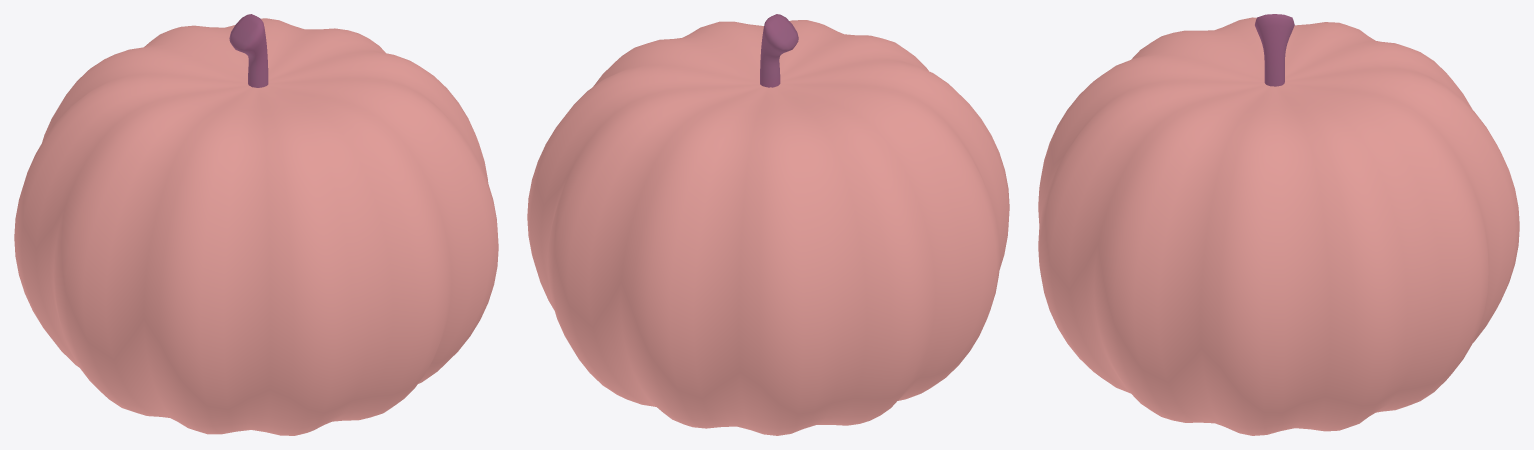
Rendered from pumpkin_proj.glb.
The picture shows the model from 3 angles, left to right: view 1: azimuth 30°, elevation 25°; view 2: azimuth 150°, elevation 25°; view 3: azimuth 270°, elevation 25°; orthographic projection.
Visible parts, largest first — view 1: pumkin1; view 2: pumkin1; view 3: pumkin1.
Boxes of the visible parts, bbox=[...] form: pumkin1: bbox=[14, 14, 498, 435]; pumkin1: bbox=[527, 14, 1009, 435]; pumkin1: bbox=[1038, 14, 1519, 435].
Size of the model in its own units: 1.94 by 1.61 by 1.93.
1 material, 1 textured.
